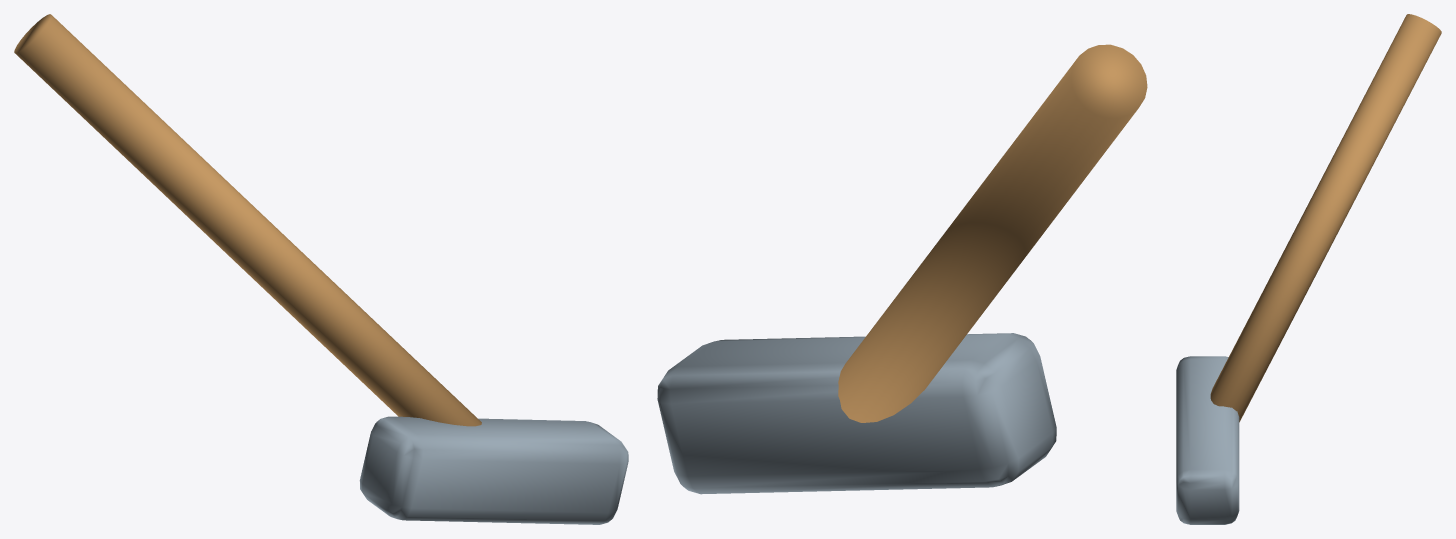
File: bouwer_timmeren_gereedschap.glb
3 renders of one model, left to right at view 1: azimuth 30°, elevation 25°; view 2: azimuth 150°, elevation 25°; view 3: azimuth 270°, elevation 25°, orthographic. The views are drawn at different scales.
Parts seen in each view (by area): view 1: Hammer_wooden_handle, Hammer_steel_head; view 2: Hammer_steel_head, Hammer_wooden_handle; view 3: Hammer_wooden_handle, Hammer_steel_head.
Boxes of the visible parts, bbox=[...] form: Hammer_wooden_handle: bbox=[14, 14, 481, 426]; Hammer_steel_head: bbox=[359, 416, 628, 524]; Hammer_steel_head: bbox=[657, 333, 1056, 494]; Hammer_wooden_handle: bbox=[838, 44, 1147, 422]; Hammer_wooden_handle: bbox=[1210, 14, 1441, 422]; Hammer_steel_head: bbox=[1176, 356, 1239, 524].
Bounding box in the file's own units: 0.4324 × 0.4461 × 0.2945.
